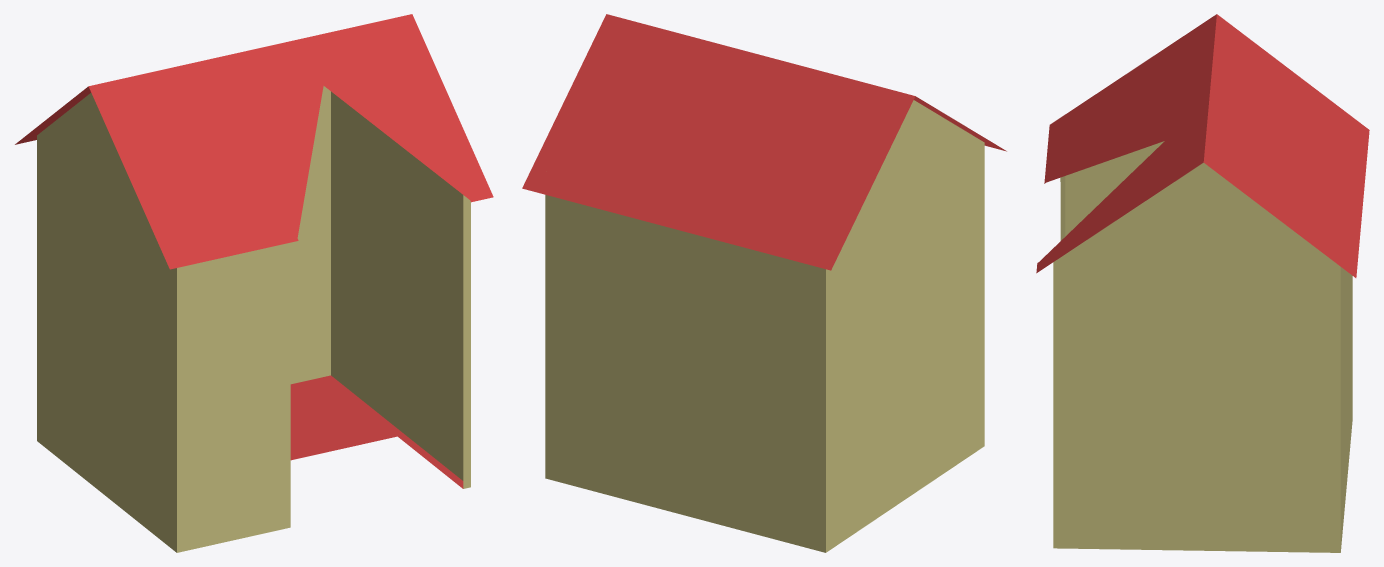
3 views of the same model, side by side, from view 1: azimuth 30°, elevation 25°; view 2: azimuth 150°, elevation 25°; view 3: azimuth 270°, elevation 25° (orthographic). The views are drawn at different scales.
Bounding box in the file's own units: 11.24 × 10.3 × 13.47.
